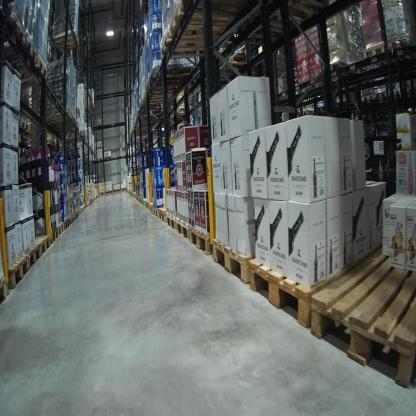pallets: (304, 237, 415, 390), (249, 257, 316, 327), (152, 208, 208, 256), (6, 236, 52, 292), (211, 239, 248, 278), (42, 213, 78, 243)
